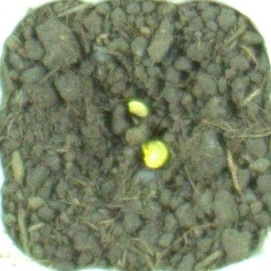chilli seed: (141, 139, 171, 169), (126, 99, 153, 120)
